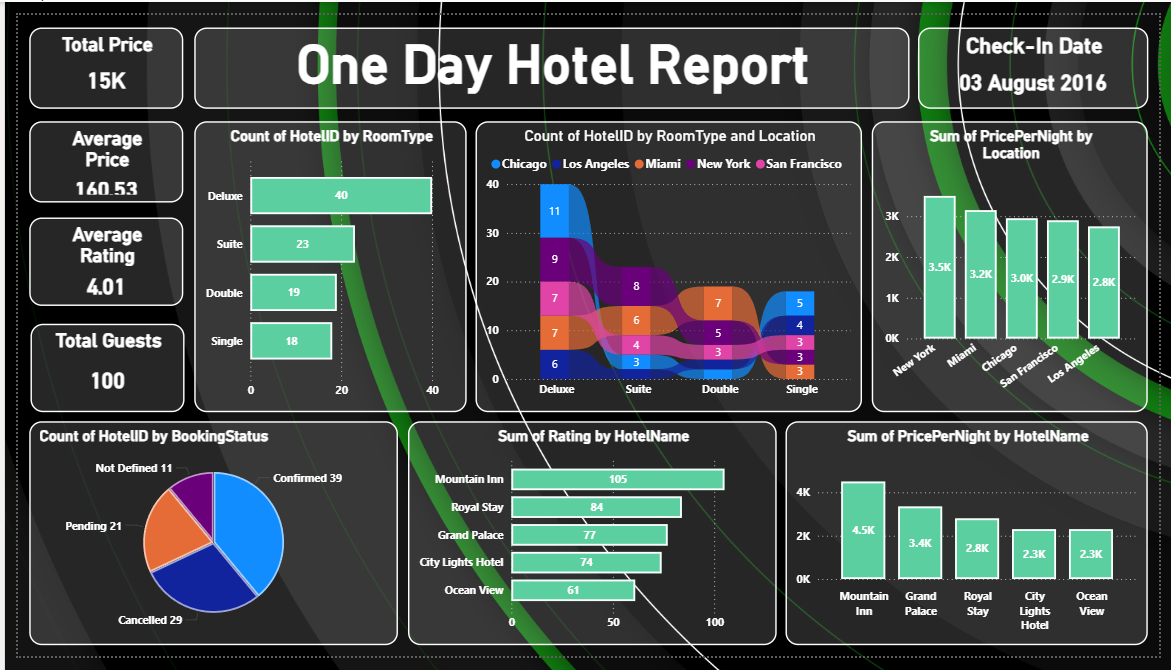

The page's visual inventory and layout, read from the dashboard file:
{"tool":"powerbi","page":{"name":"Page 1","canvas":[1280,720],"ordinal":0},"visuals":[{"type":"pieChart","fields":{"Category":["hotel_data.BookingStatus"],"Y":["CountNonNull(hotel_data.HotelID)"]},"box":[12.6,455.7,413.7,251],"z":0},{"type":"columnChart","fields":{"Category":["hotel_data.Location"],"Y":["Sum(hotel_data.PricePerNight)"]},"box":[957.8,119.2,309.9,326.7],"z":1000},{"type":"barChart","fields":{"Category":["hotel_data.HotelName"],"Y":["Sum(hotel_data.Rating)"]},"box":[437.5,455.7,413.7,251],"z":2000},{"type":"barChart","fields":{"Category":["hotel_data.RoomType"],"Y":["CountNonNull(hotel_data.HotelID)"]},"box":[197.7,119.2,305.7,326.7],"z":3000},{"type":"ribbonChart","fields":{"Category":["hotel_data.RoomType"],"Y":["CountNonNull(hotel_data.HotelID)"],"Series":["hotel_data.Location"]},"box":[513.2,119.2,433.3,326.7],"z":4000},{"type":"columnChart","fields":{"Category":["hotel_data.HotelName"],"Y":["Sum(hotel_data.PricePerNight)"]},"box":[861,455.7,406.7,251],"z":5000},{"type":"textbox","title":"One Day Hotel Report","box":[197.7,14,802.1,91.1],"z":6000},{"type":"card","title":"Check-In Date","fields":{"Values":["Max(hotel_data.CheckInDate)"]},"box":[1009.6,14,258,91.1],"z":7000},{"type":"card","title":"Total Price","fields":{"Values":["Sum(hotel_data.PricePerNight)"]},"box":[12.6,14,172.5,91.1],"z":8000},{"type":"card","title":"Average Rating","fields":{"Values":["Avg(hotel_data.Rating)"]},"box":[12.6,227.2,172.5,99.6],"z":9000},{"type":"card","title":"Total Guests","fields":{"Values":["CountNonNull(hotel_data.HotelID)"]},"box":[14,346.4,172.5,99.6],"z":9001},{"type":"card","title":"Average Price","fields":{"Values":["Avg(hotel_data.PricePerNight)"]},"box":[12.6,119.2,172.5,91.1],"z":9002}]}

Visuals, with their boxes in screenshot pixels (x1, y1, x2, y2), scaled from the page's 1280x720 canvas onto the 1171x670 screenshot:
pieChart - hotel_data.BookingStatus x CountNonNull(hotel_data.HotelID): 12/424/390/658
columnChart - hotel_data.Location x Sum(hotel_data.PricePerNight): 876/111/1160/415
barChart - hotel_data.HotelName x Sum(hotel_data.Rating): 400/424/779/658
barChart - hotel_data.RoomType x CountNonNull(hotel_data.HotelID): 181/111/461/415
ribbonChart - hotel_data.RoomType x CountNonNull(hotel_data.HotelID): 469/111/866/415
columnChart - hotel_data.HotelName x Sum(hotel_data.PricePerNight): 788/424/1160/658
"One Day Hotel Report" textbox: 181/13/915/98
"Check-In Date" card: 924/13/1160/98
"Total Price" card: 12/13/169/98
"Average Rating" card: 12/211/169/304
"Total Guests" card: 13/322/171/415
"Average Price" card: 12/111/169/196
